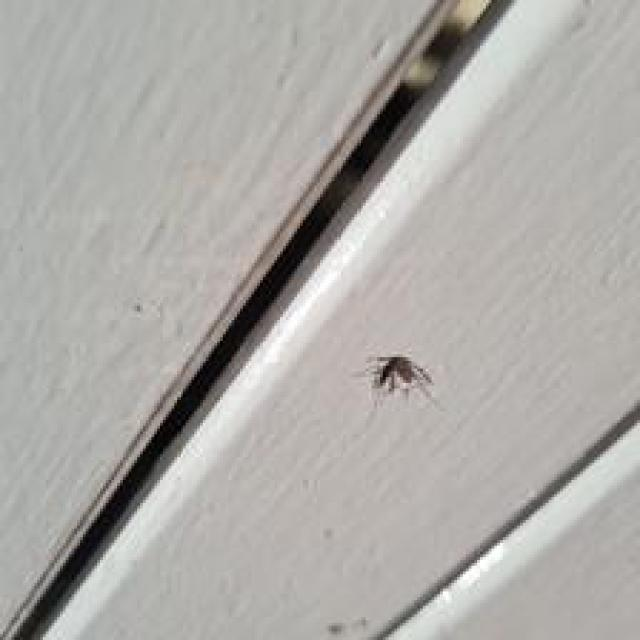Aedes albopictus: (364, 353, 436, 404)
